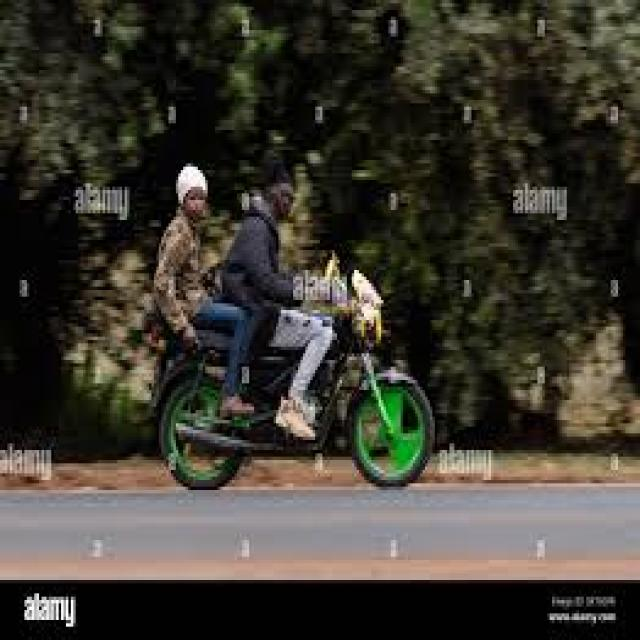bodaboda: (111, 236, 503, 512)
